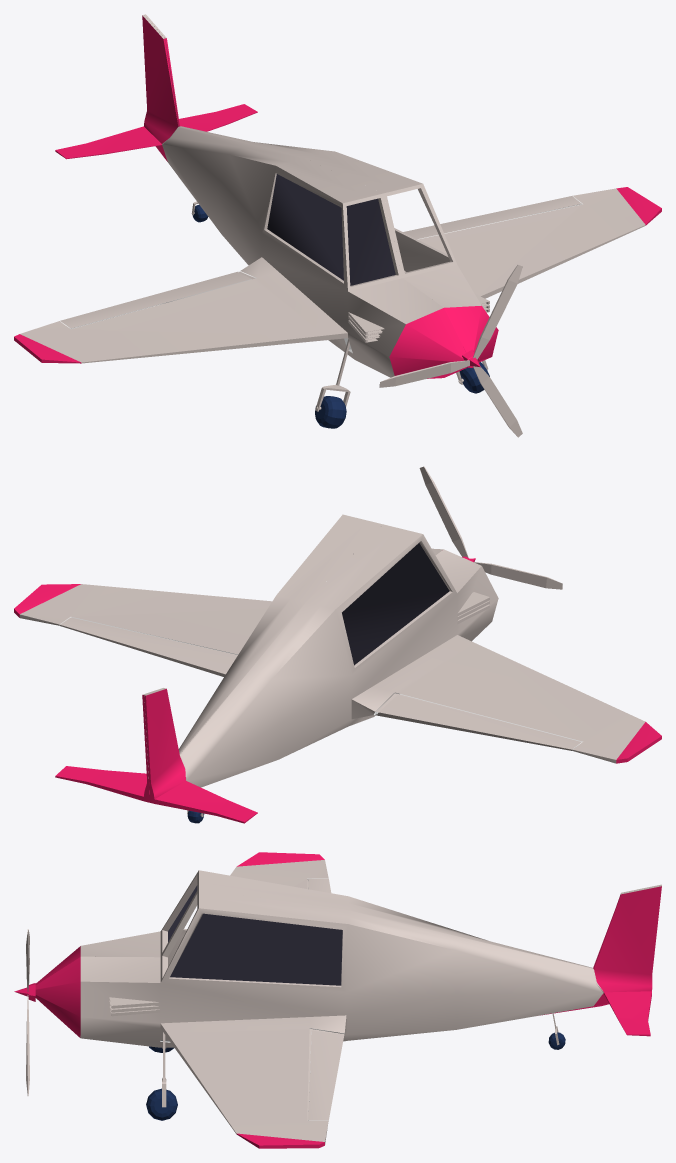
File: asset.gltf
The picture shows the model from 3 angles, top to bottom: view 1: azimuth 30°, elevation 25°; view 2: azimuth 150°, elevation 25°; view 3: azimuth 270°, elevation 25°; orthographic projection. The views are drawn at different scales.
Visible parts, largest first — view 1: Cube_1_3, Propeller_1, Wheel_4; view 2: Cube_1_3, Propeller_1; view 3: Cube_1_3, Propeller_1, Wheel_2.
Boxes of the visible parts, x1=… form: Cube_1_3: x1=14, y1=14, x2=661, y2=378; Propeller_1: x1=379, y1=264, x2=522, y2=437; Wheel_4: x1=315, y1=396, x2=346, y2=428; Cube_1_3: x1=14, y1=514, x2=661, y2=823; Propeller_1: x1=419, y1=466, x2=562, y2=589; Cube_1_3: x1=35, y1=852, x2=661, y2=1148; Propeller_1: x1=14, y1=929, x2=35, y2=1095; Wheel_2: x1=146, y1=1088, x2=177, y2=1120.
Bounding box in the file's own units: 2.09 × 0.6675 × 1.96.
